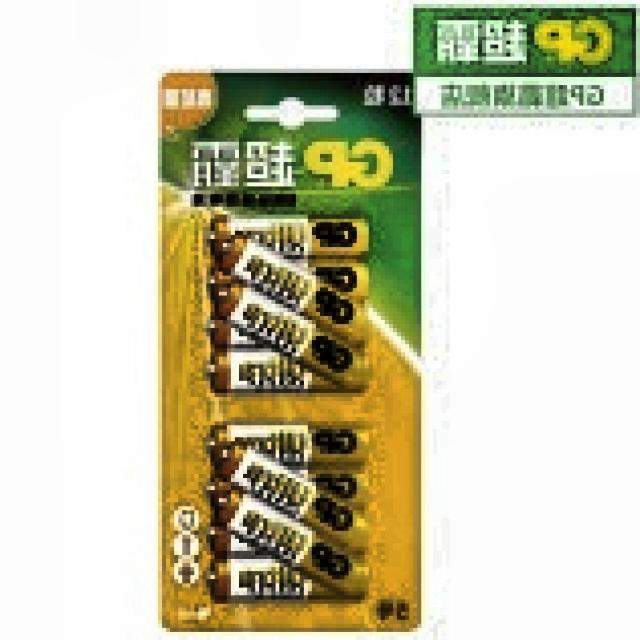Non-Valuable Waste - Batteries: (210, 211, 369, 391), (210, 424, 369, 601)
